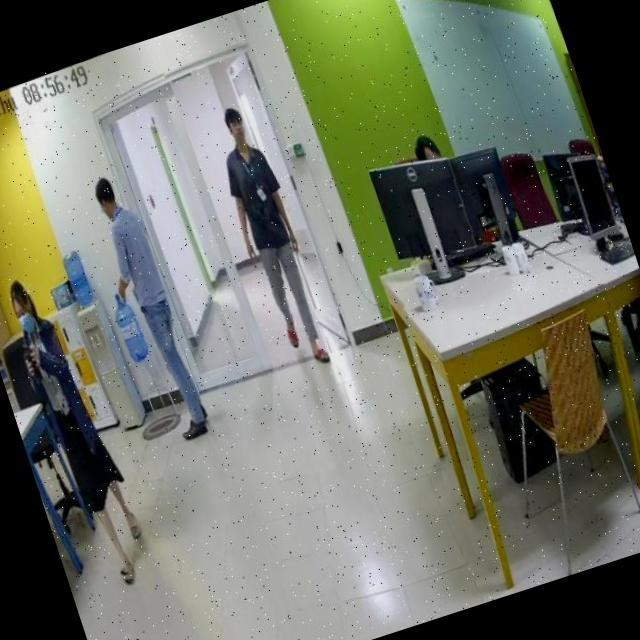person: (0, 267, 159, 595), (200, 98, 342, 378), (86, 170, 215, 446)
